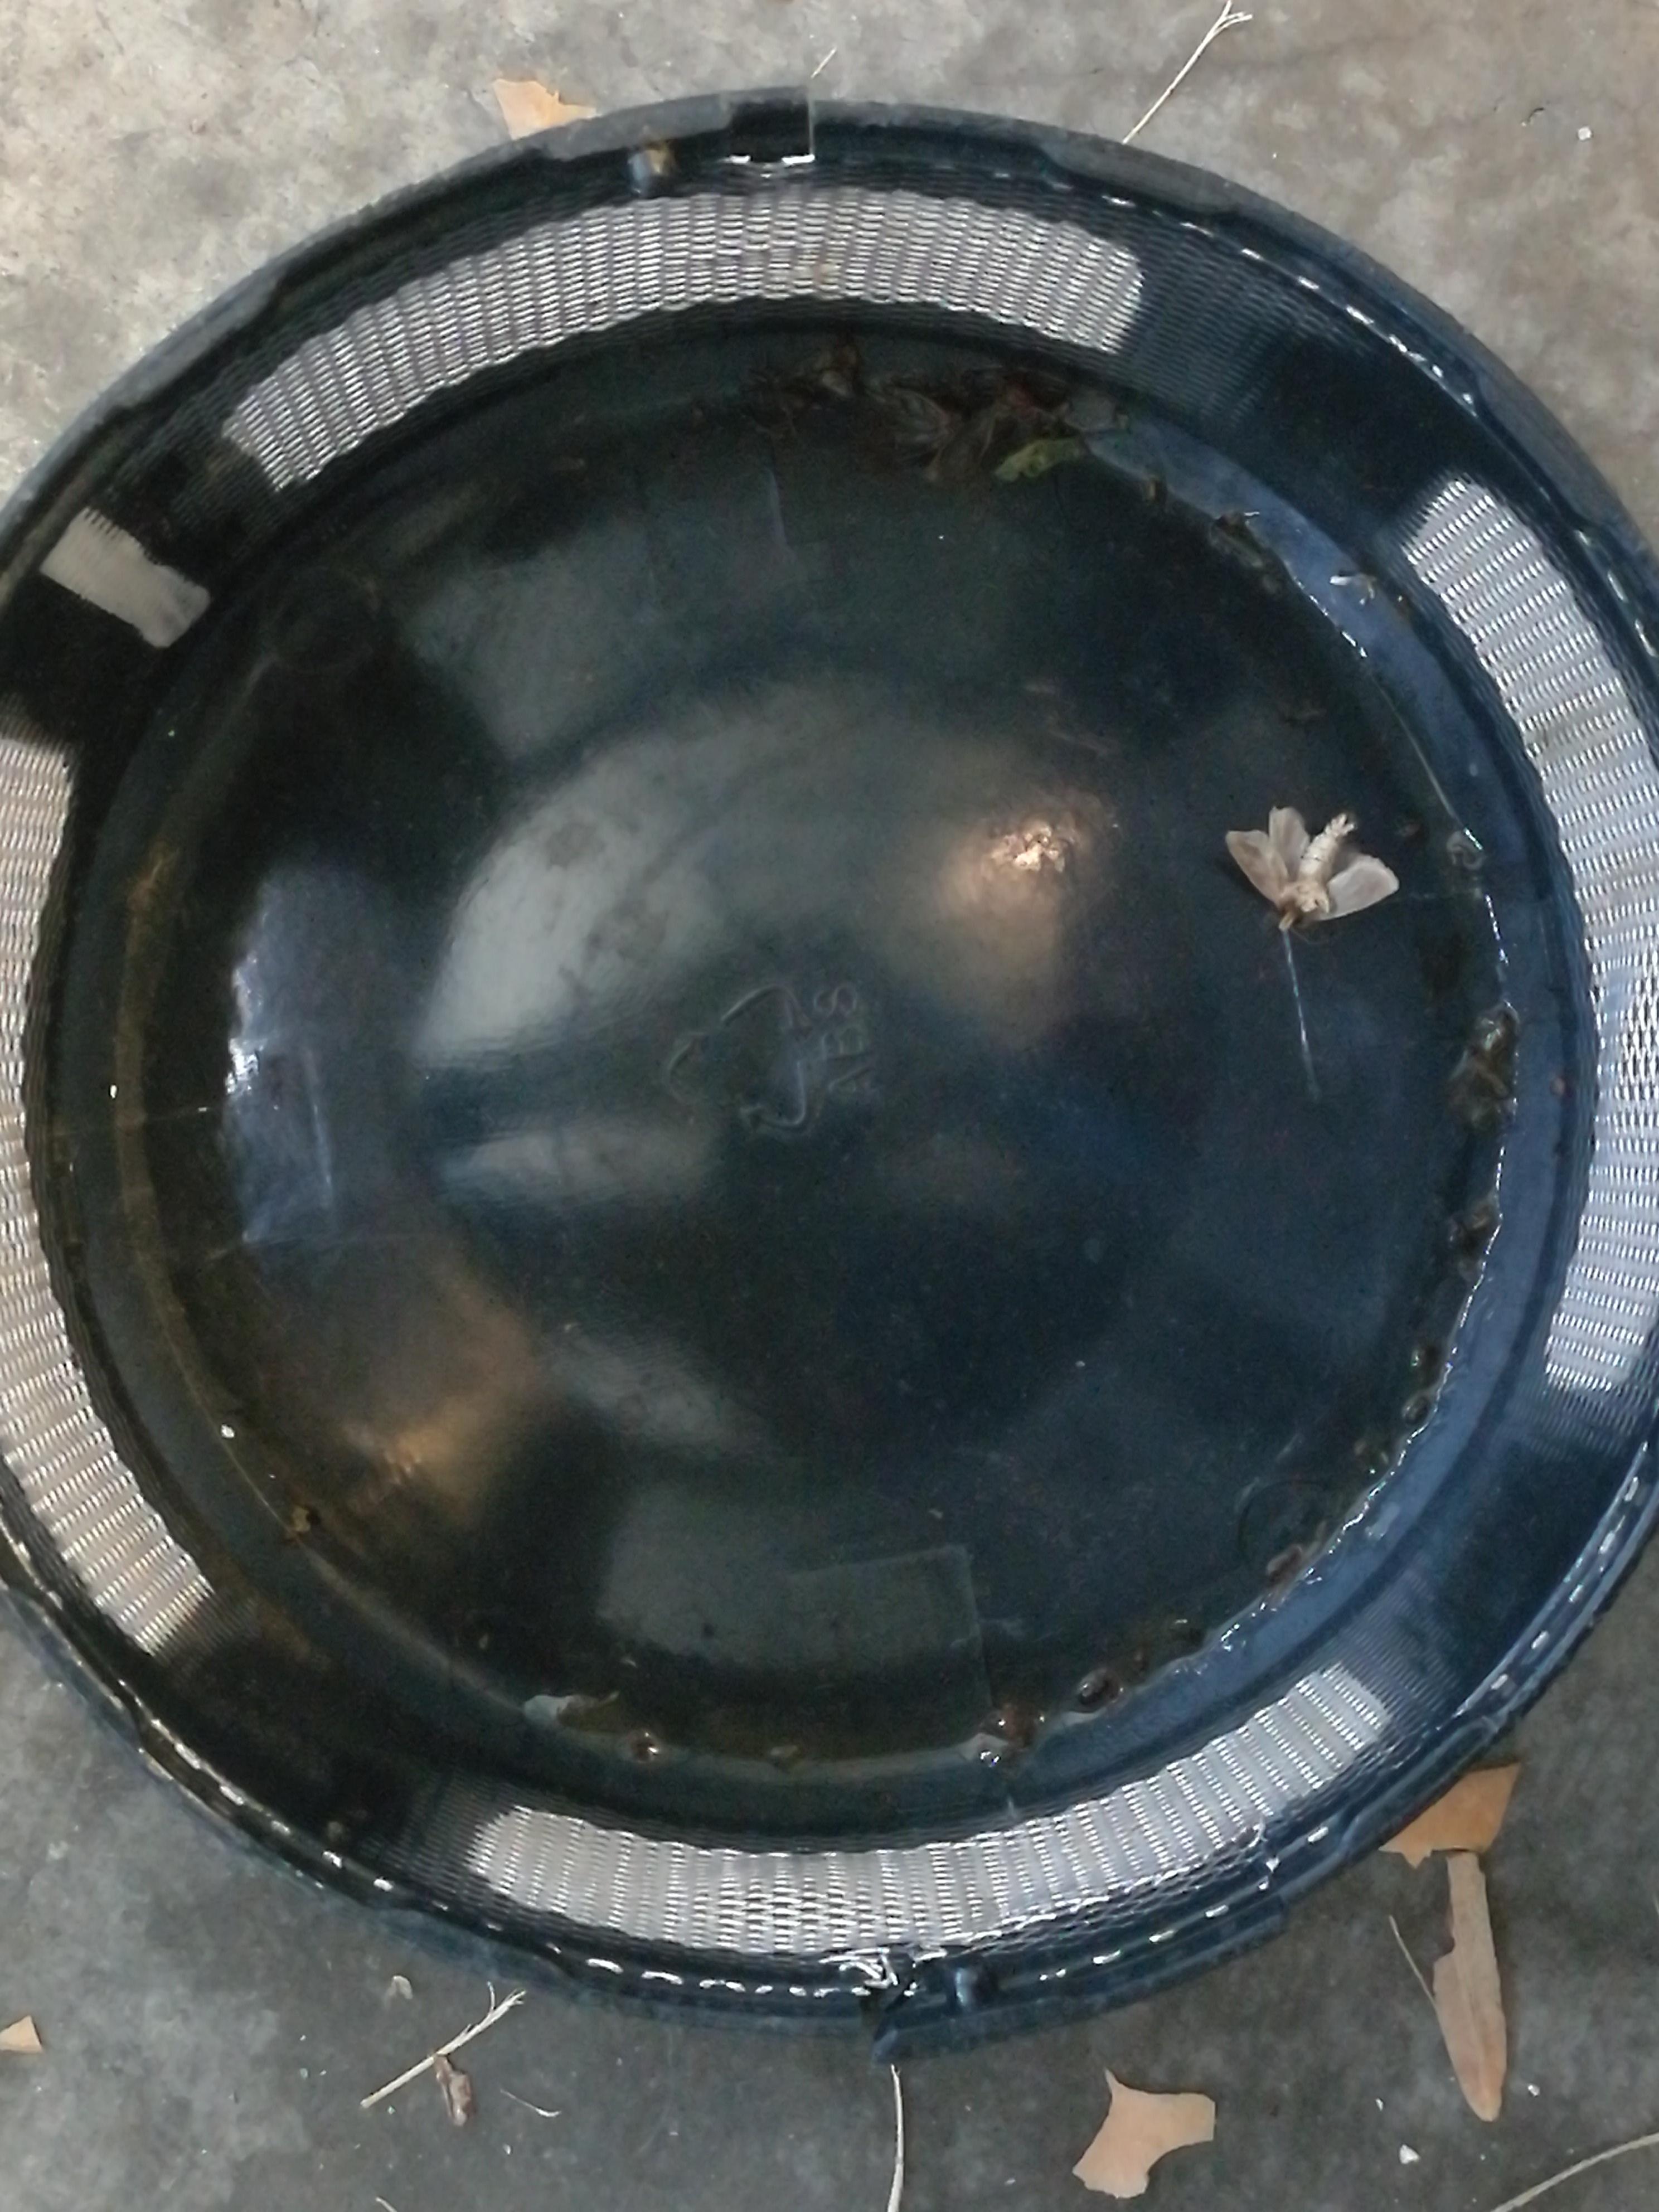moth: (1230, 806, 1399, 921), (892, 385, 951, 460)
